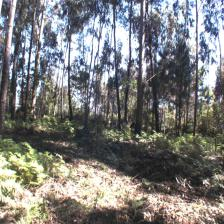trunktrack_idkeyframe: (135, 38, 144, 136), (26, 67, 39, 123), (114, 82, 123, 132), (67, 74, 74, 123), (152, 94, 160, 134), (10, 69, 16, 122), (193, 93, 198, 137), (124, 91, 130, 125)
